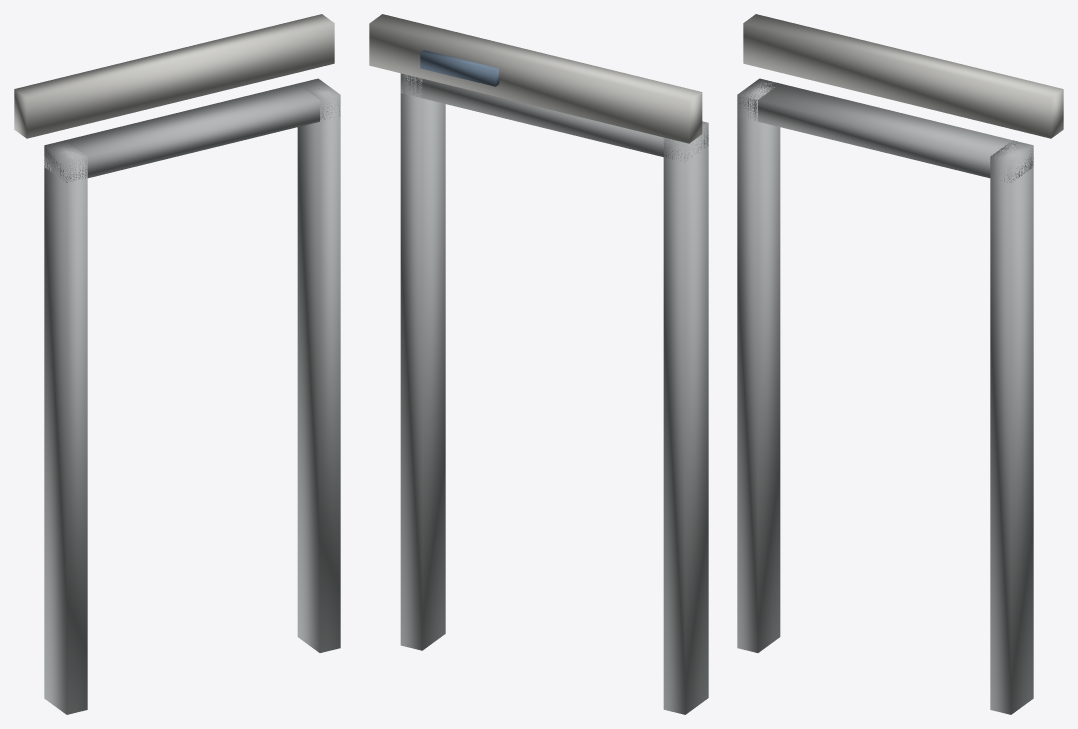
The model's file is doorway_hospital_w96_h210_d16.glb.
The picture shows the model from 3 angles, left to right: view 1: azimuth 30°, elevation 25°; view 2: azimuth 150°, elevation 25°; view 3: azimuth 330°, elevation 25°; orthographic projection. The views are drawn at different scales.
Visible parts, largest first — view 1: world; view 2: world; view 3: world.
Boxes of the visible parts, left/top/right/bottom form: world: left=14, top=14, right=340, bottom=714; world: left=369, top=14, right=708, bottom=714; world: left=737, top=14, right=1063, bottom=714.
Bounding box in the file's own units: 1.27 × 2.39 × 0.28.
